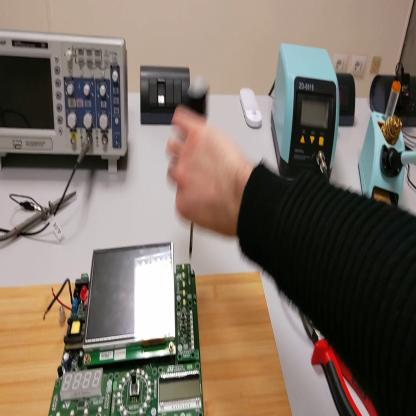hand: (166, 105, 249, 240)
low voltage board: (45, 245, 206, 416)
oscilloscope: (2, 31, 133, 175)
oscilloscope probe tip: (2, 191, 77, 239)
pliers: (301, 312, 379, 415)
screwdriver-: (182, 91, 208, 270)
socket: (370, 69, 415, 129), (339, 73, 356, 128)
welder base: (359, 81, 407, 210)
welder probe tip: (390, 151, 416, 171)
welder station: (272, 46, 340, 183)
working area: (1, 275, 292, 416)
